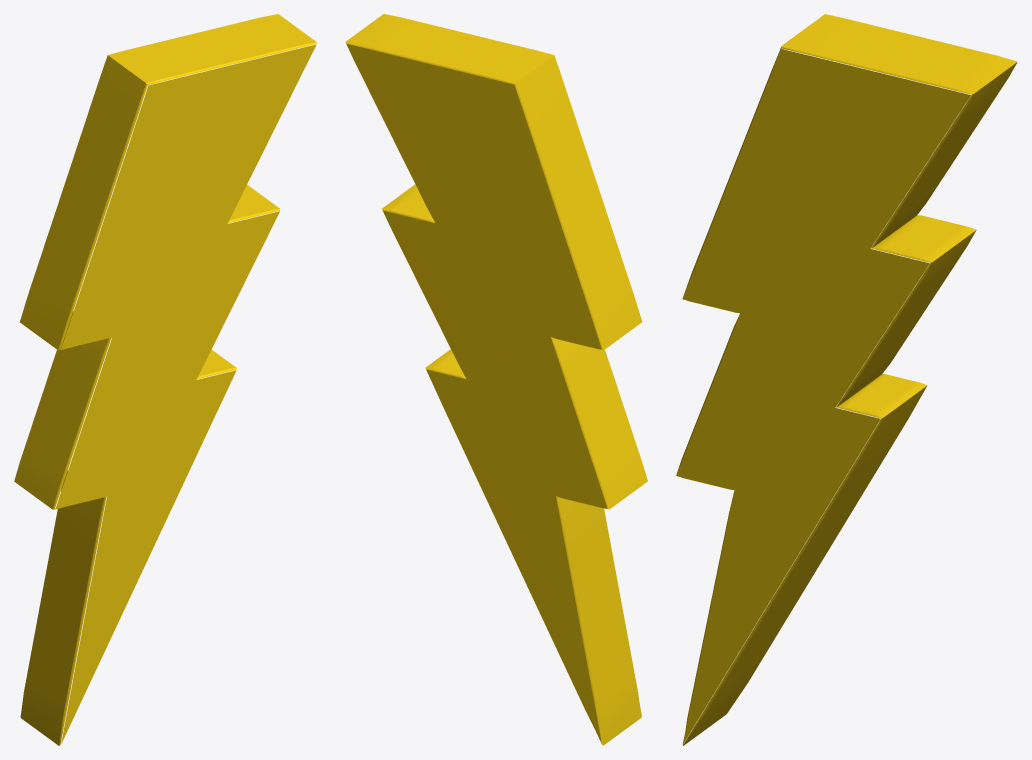
The model's file is lightSingle.gltf.
3 renders of one model, left to right at view 1: azimuth 30°, elevation 25°; view 2: azimuth 150°, elevation 25°; view 3: azimuth 330°, elevation 25°, orthographic. The views are drawn at different scales.
Visible parts, largest first — view 1: Z_UP; view 2: Z_UP; view 3: Z_UP.
Boxes of the visible parts, x1,y1,x2,y2 form: Z_UP: (14, 14, 316, 745); Z_UP: (345, 14, 647, 745); Z_UP: (676, 14, 1017, 745).
Size of the model in its own units: 0.3125 by 0.7253 by 0.0825.
